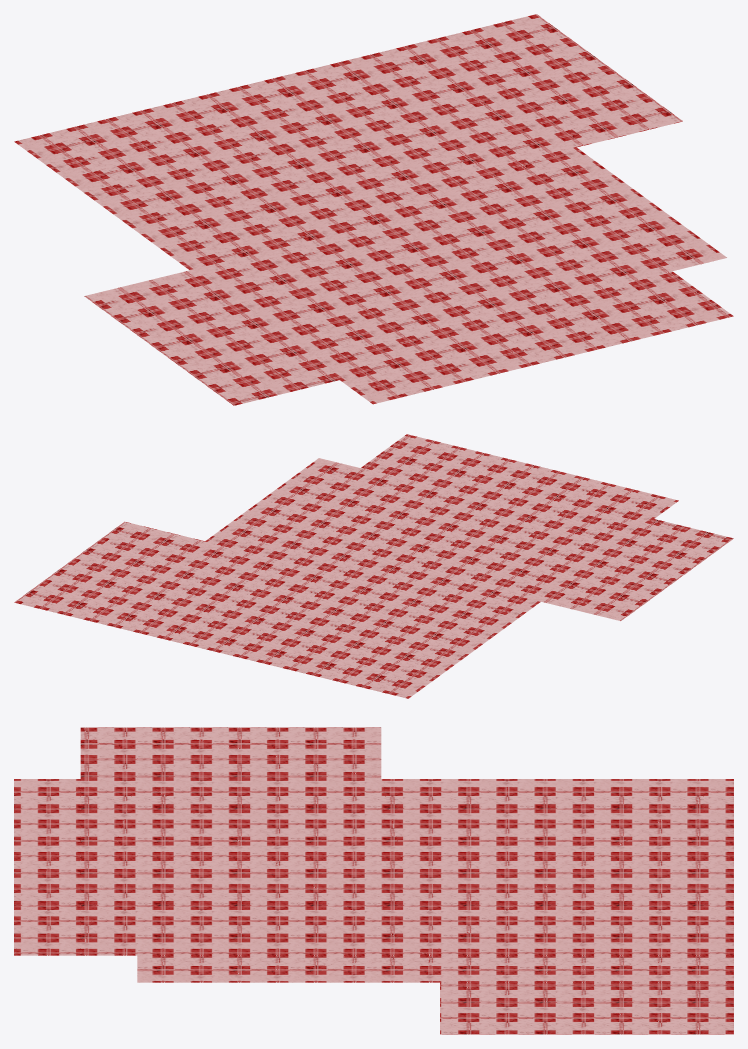
File: Rest_DA_Set08_01_v01.fbx
The picture shows the model from 3 angles, top to bottom: view 1: azimuth 30°, elevation 25°; view 2: azimuth 150°, elevation 25°; view 3: azimuth 270°, elevation 25°; orthographic projection. The views are drawn at different scales.
Visible parts, largest first — view 1: Rest_DA_Set08_Ground_01; view 2: Rest_DA_Set08_Ground_01; view 3: Rest_DA_Set08_Ground_01.
Part boxes in pixels (x1=…): Rest_DA_Set08_Ground_01: x1=14, y1=14, x2=733, y2=405; Rest_DA_Set08_Ground_01: x1=14, y1=434, x2=733, y2=698; Rest_DA_Set08_Ground_01: x1=14, y1=727, x2=733, y2=1034.
Bounding box in the file's own units: 960 × 2.4e-05 × 950.
Materials: 1 (1 with a texture image).
